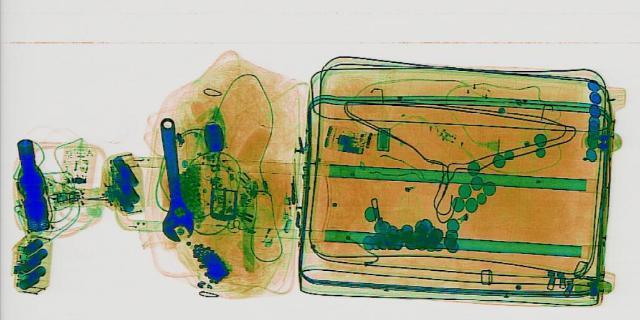Wrench: (143, 116, 197, 240)
